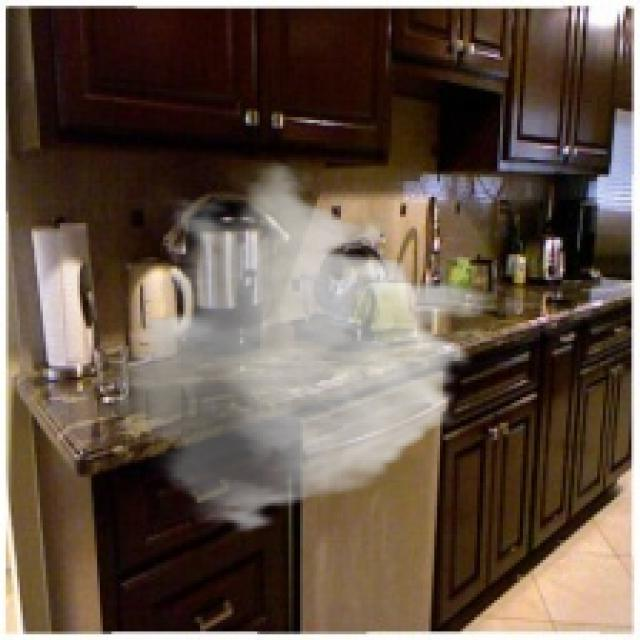smoke: (97, 160, 500, 534)
